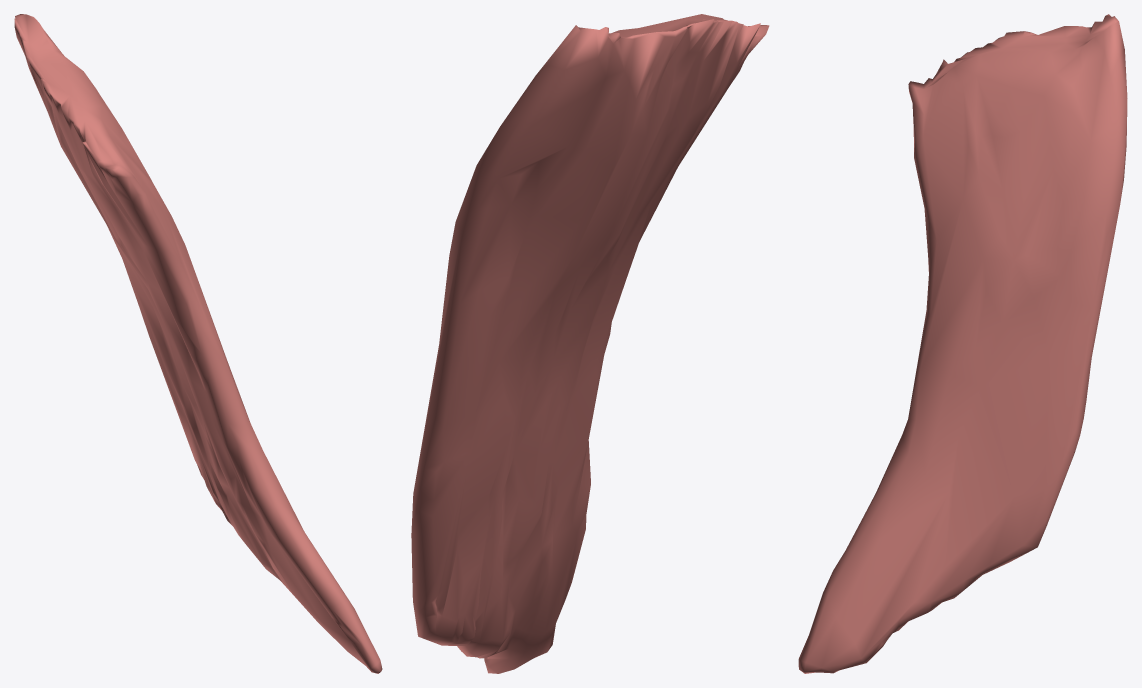
3 views of the same model, side by side, from view 1: azimuth 30°, elevation 25°; view 2: azimuth 150°, elevation 25°; view 3: azimuth 270°, elevation 25° (orthographic). The views are drawn at different scales.
Visible parts, largest first — view 1: ZA_eb2d3220a099f56c; view 2: ZA_eb2d3220a099f56c; view 3: ZA_eb2d3220a099f56c.
Part boxes in pixels (x1,y1,x2,y2): ZA_eb2d3220a099f56c: (14,14,382,673); ZA_eb2d3220a099f56c: (411,14,769,673); ZA_eb2d3220a099f56c: (798,14,1127,673).
Bounding box in the file's own units: 0.027 × 0.0655 × 0.0346.
